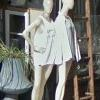Statue: (15, 3, 84, 98)
